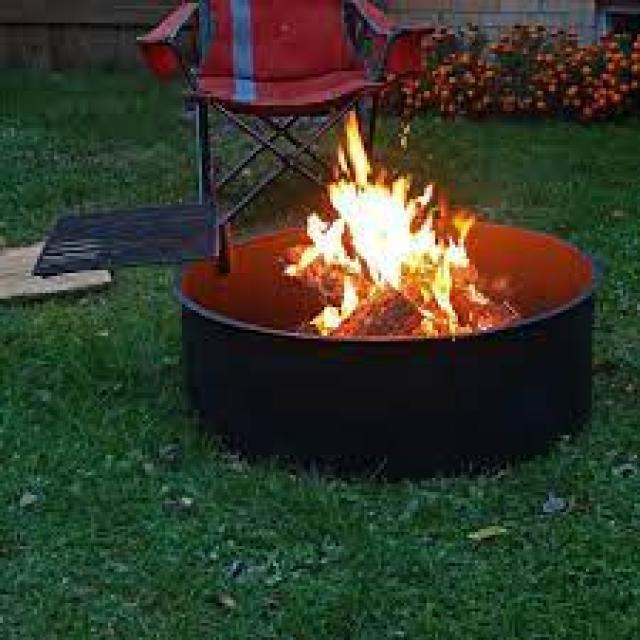fire: (284, 111, 488, 338)
